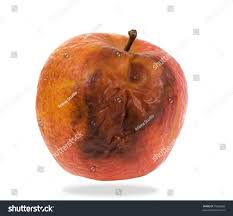damaged_apple: (38, 36, 191, 180)
